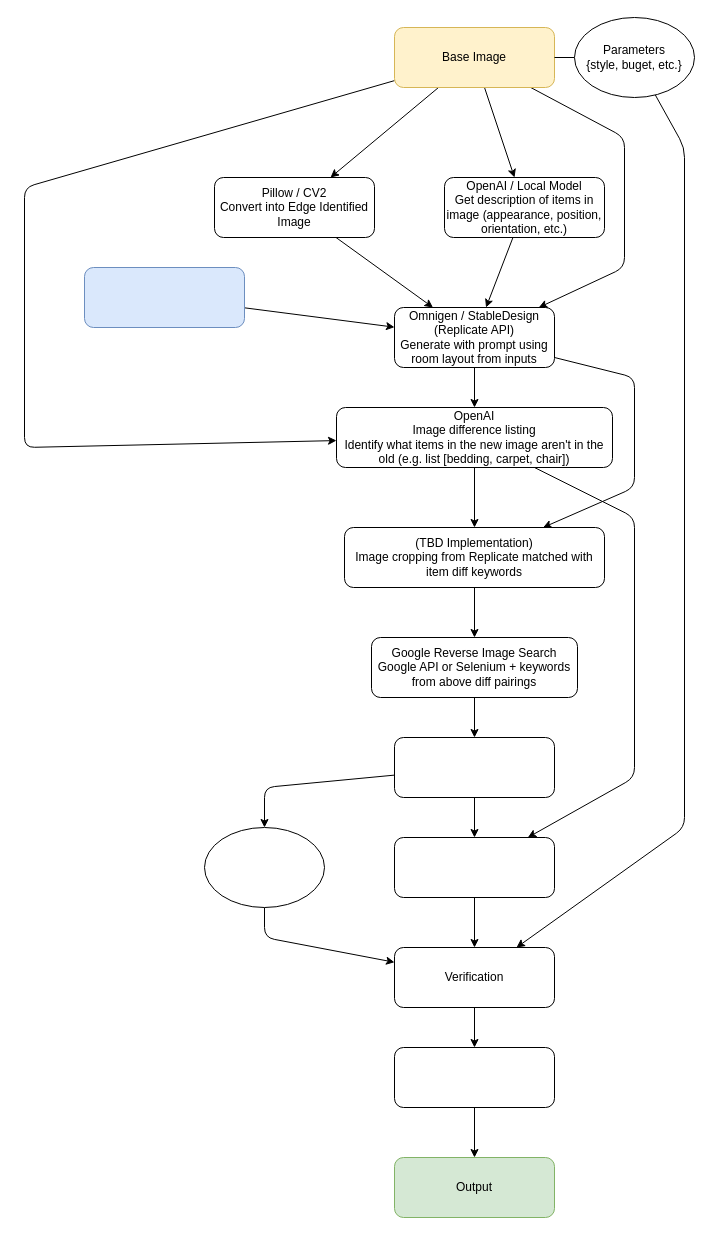
Some shapes in this 712 by 1235 pixel diagram are drawn without their labels. Each missing label, with the box of its shape:
(RAG) Sample Decorated Dorm Images: (84, 266, 244, 328)
Approximate Similarity Check Top-K: (394, 836, 554, 898)
Exact and Filter Results Top-K: (394, 736, 554, 798)
Images Prices Companies Location etc.: (204, 826, 324, 908)
OpenAI Replace generated items in image with real items: (394, 1046, 554, 1108)
